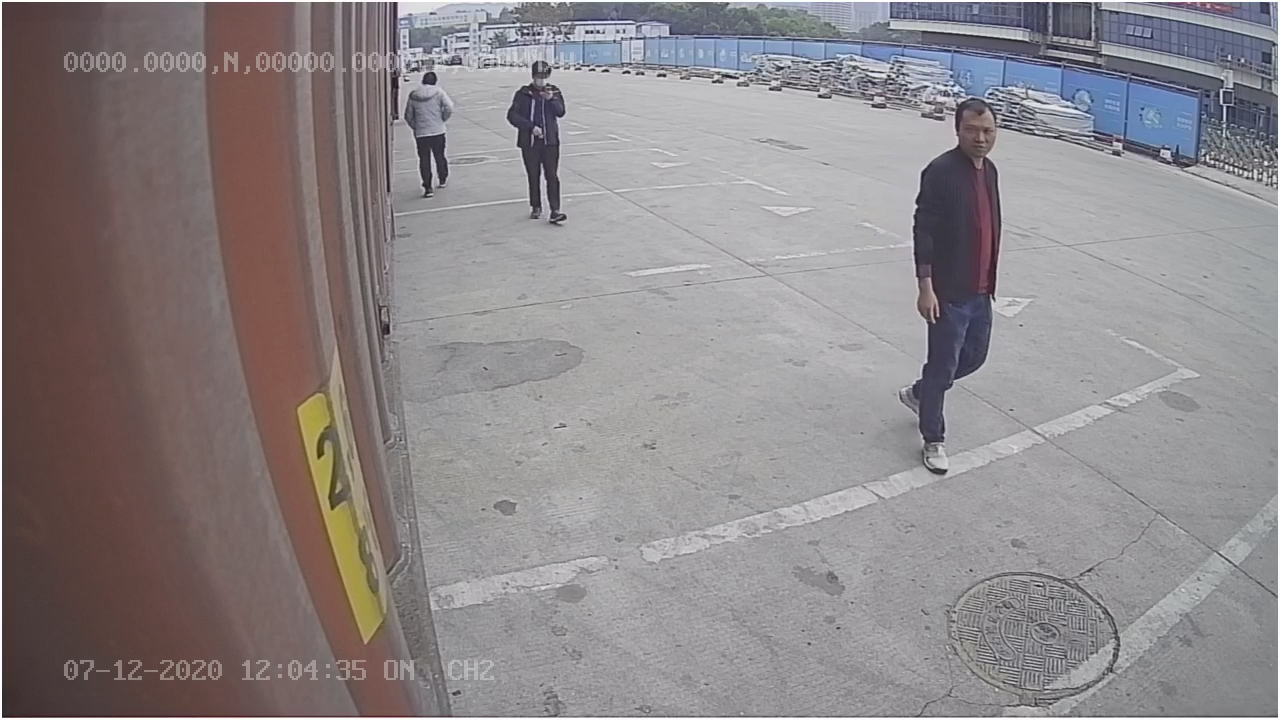person: (892, 90, 1007, 476)
